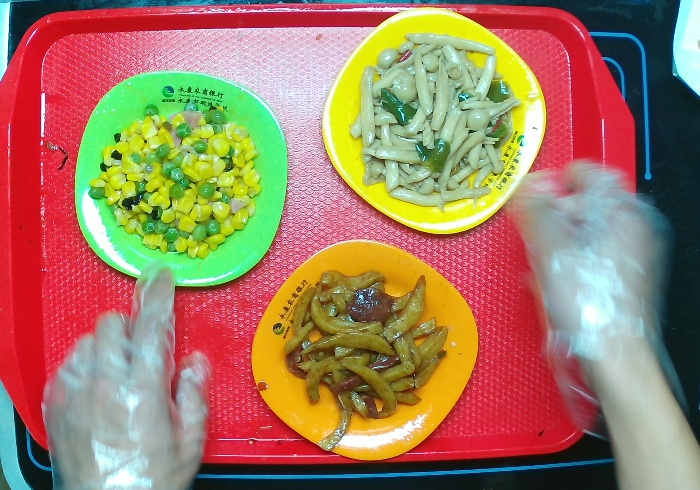YKMZ-Huang_Se_Fang_Die: (318, 5, 548, 236)
YKMZ-Ju_Se_Fang_Die: (250, 237, 480, 461)
YKMZ-Lv_Se_Fang_Die: (72, 68, 292, 288)
